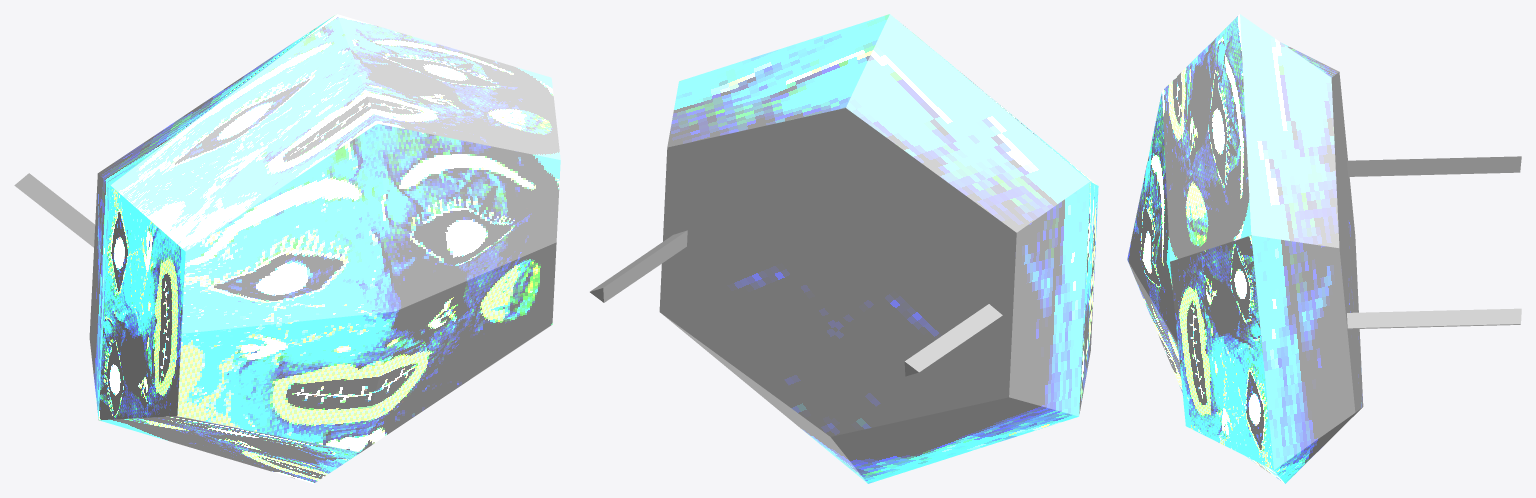
Rendered from mask_head.glb.
3 views of the same model, side by side, from view 1: azimuth 30°, elevation 25°; view 2: azimuth 150°, elevation 25°; view 3: azimuth 270°, elevation 25° (orthographic). The views are drawn at different scales.
Parts seen in each view (by area): view 1: mask_head; view 2: mask_head; view 3: mask_head.
Part boxes in pixels (bbox=[...]): mask_head: bbox=[14, 14, 560, 483]; mask_head: bbox=[590, 14, 1098, 483]; mask_head: bbox=[1127, 14, 1521, 483].
Size of the model in its own units: 0.9186 by 0.9693 by 0.7375.
